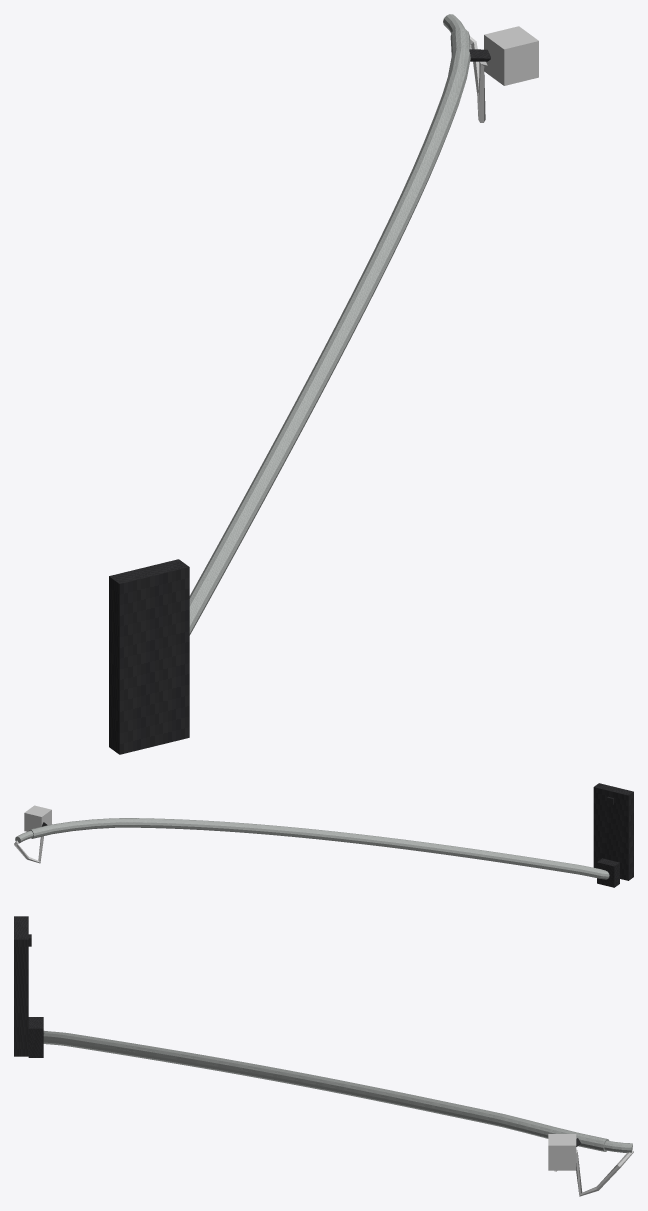
File: arm_5_right_right_wired.obj
The picture shows the model from 3 angles, top to bottom: view 1: azimuth 30°, elevation 25°; view 2: azimuth 150°, elevation 25°; view 3: azimuth 270°, elevation 25°; orthographic projection. The views are drawn at different scales.
Visible parts, largest first — view 1: pole_light_mount_5_right_right_wired; view 2: pole_light_mount_5_right_right_wired; view 3: pole_light_mount_5_right_right_wired.
Boxes of the visible parts, box(x1,y1,x2,y2) form: pole_light_mount_5_right_right_wired: box(109, 14, 538, 754); pole_light_mount_5_right_right_wired: box(14, 783, 633, 887); pole_light_mount_5_right_right_wired: box(14, 916, 633, 1196).
Bounding box in the file's own units: 4.34 × 1.24 × 4.2.
